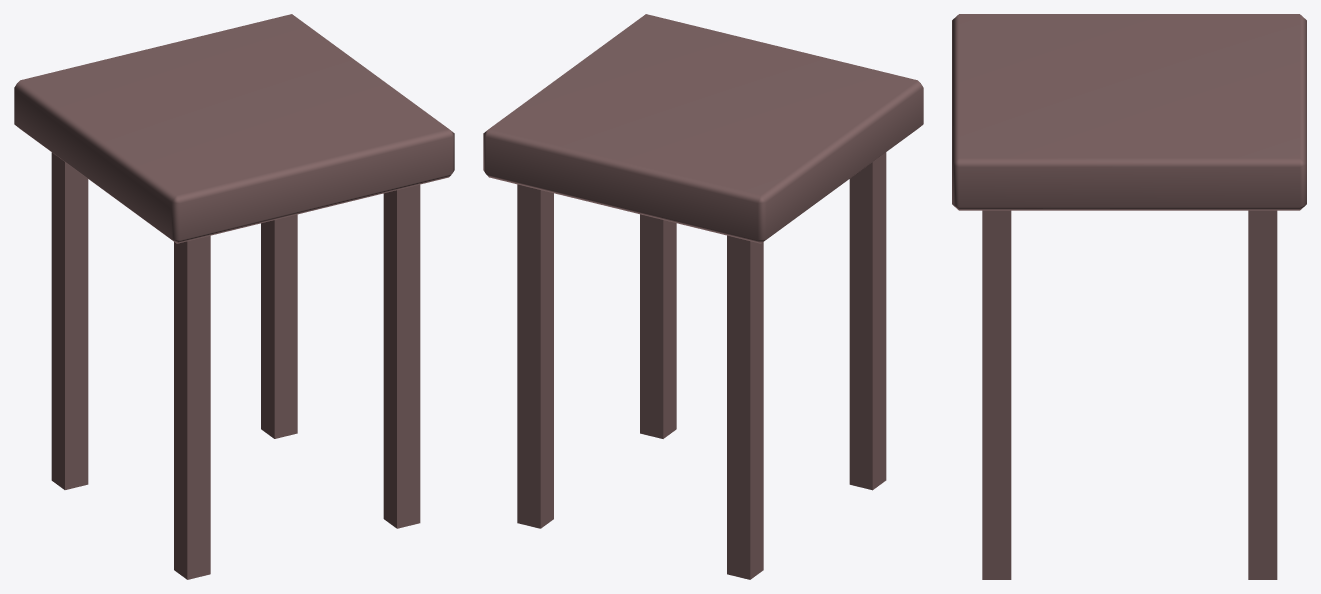
The model's file is mini_table.fbx.
3 views of the same model, side by side, from view 1: azimuth 30°, elevation 25°; view 2: azimuth 150°, elevation 25°; view 3: azimuth 270°, elevation 25° (orthographic). The views are drawn at different scales.
Parts seen in each view (by area): view 1: mini_table; view 2: mini_table; view 3: mini_table.
Part boxes in pixels (<box>): mini_table: <box>14,14,454,579</box>; mini_table: <box>483,14,923,579</box>; mini_table: <box>952,14,1306,579</box>.
Bounding box in the file's own units: 0.0061 × 0.00818 × 0.0061.
